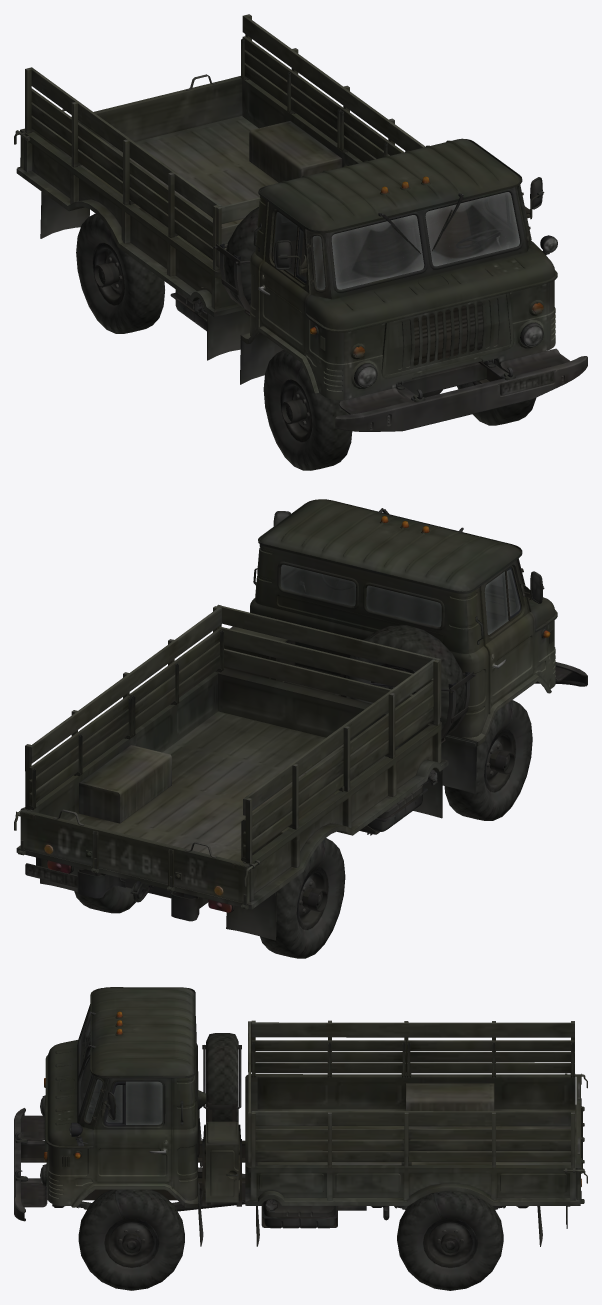
Rendered from gaz_66.glb.
3 renders of one model, top to bottom at view 1: azimuth 30°, elevation 25°; view 2: azimuth 150°, elevation 25°; view 3: azimuth 270°, elevation 25°, orthographic. The views are drawn at different scales.
Visible parts, largest first — view 1: baza_1ee5a66d.dds_0, baza_f0a7f92f.dds_0, PP_1ee5a66d.dds_0, PZ_1ee5a66d.dds_0, LP_1ee5a66d.dds_0; view 2: baza_1ee5a66d.dds_0, PZ_1ee5a66d.dds_0, PP_1ee5a66d.dds_0, baza_f0a7f92f.dds_0, LZ_1ee5a66d.dds_0; view 3: baza_1ee5a66d.dds_0, LP_1ee5a66d.dds_0, LZ_1ee5a66d.dds_0, baza_f0a7f92f.dds_0.
Part boxes in pixels (left/top/right/bottom): baza_1ee5a66d.dds_0: left=14, top=14, right=587, bottom=431; baza_f0a7f92f.dds_0: left=273, top=192, right=519, bottom=289; PP_1ee5a66d.dds_0: left=263, top=350, right=352, bottom=470; PZ_1ee5a66d.dds_0: left=76, top=213, right=164, bottom=333; LP_1ee5a66d.dds_0: left=457, top=359, right=536, bottom=425; baza_1ee5a66d.dds_0: left=14, top=499, right=587, bottom=940; PZ_1ee5a66d.dds_0: left=260, top=838, right=345, bottom=958; PP_1ee5a66d.dds_0: left=444, top=700, right=532, bottom=820; baza_f0a7f92f.dds_0: left=280, top=564, right=520, bottom=634; LZ_1ee5a66d.dds_0: left=74, top=886, right=136, bottom=913; baza_1ee5a66d.dds_0: left=14, top=987, right=587, bottom=1246; LP_1ee5a66d.dds_0: left=78, top=1189, right=184, bottom=1290; LZ_1ee5a66d.dds_0: left=397, top=1191, right=503, bottom=1290; baza_f0a7f92f.dds_0: left=80, top=1011, right=162, bottom=1124.
Bounding box in the file's own units: 0.0696 × 0.066 × 0.1515.
Materials: 2 (2 with a texture image).
